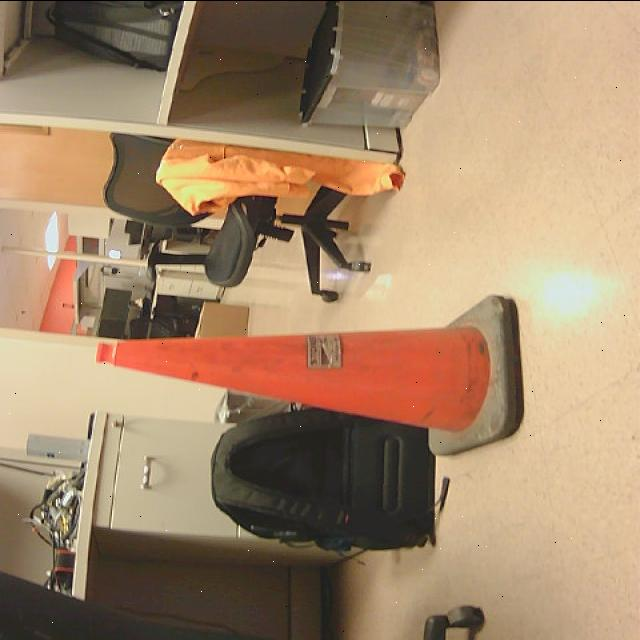traffic cone: (96, 295, 528, 456)
